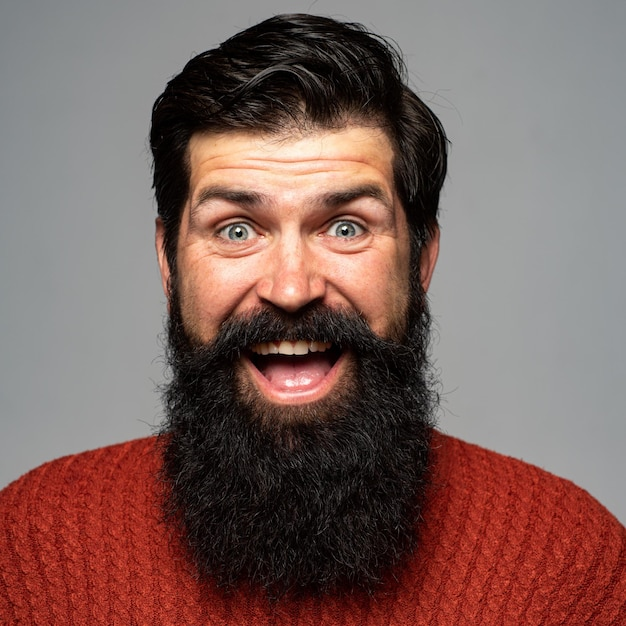young: (135, 25, 474, 585)
